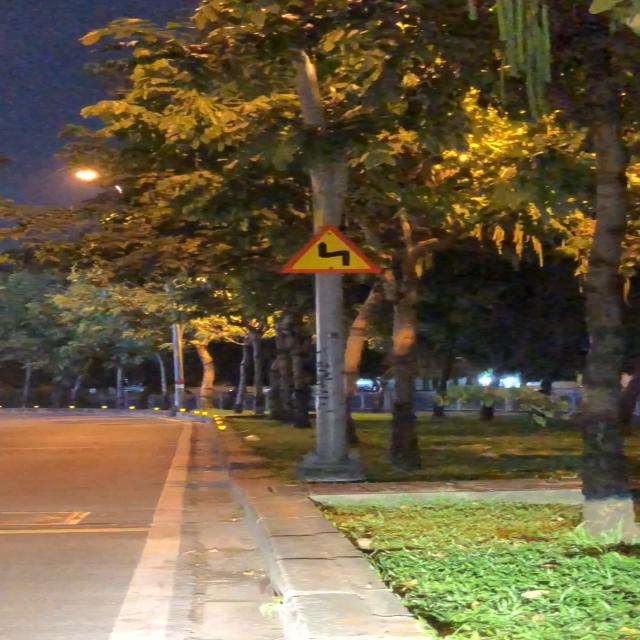Bien bao nhieu cho ngoat nguy hiem lien tiep: (274, 224, 381, 278)
